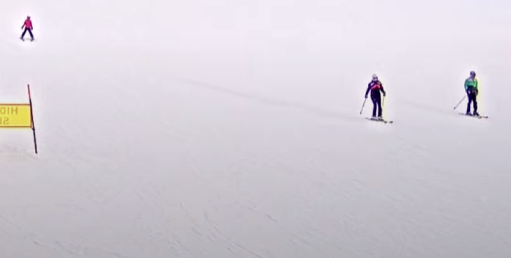skier: (453, 71, 490, 120), (359, 74, 393, 124), (19, 15, 35, 42)
